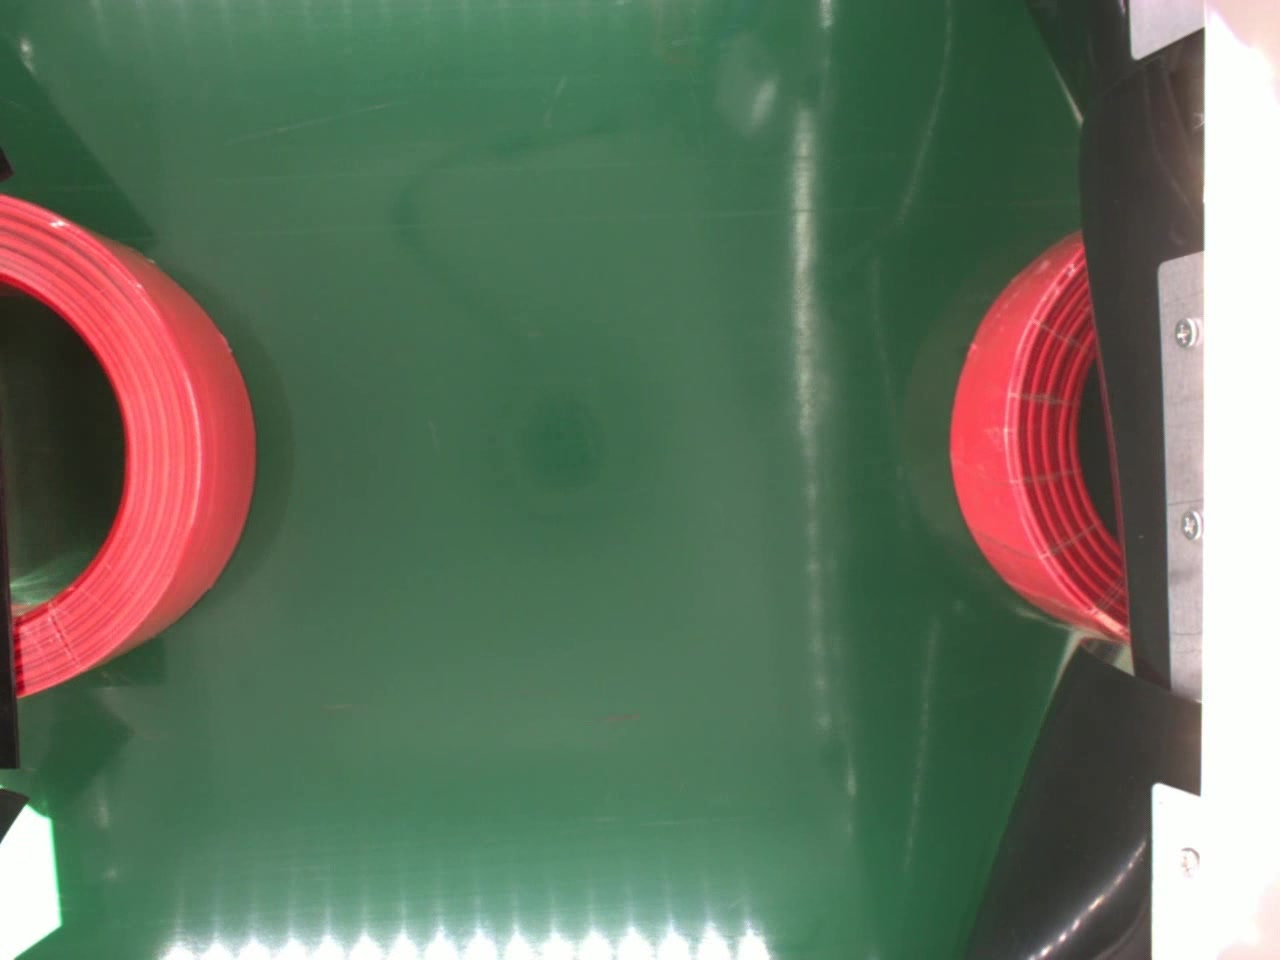red: (0, 186, 260, 690), (950, 224, 1125, 640)
